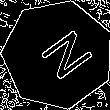N_SW: (25, 24, 90, 86)
